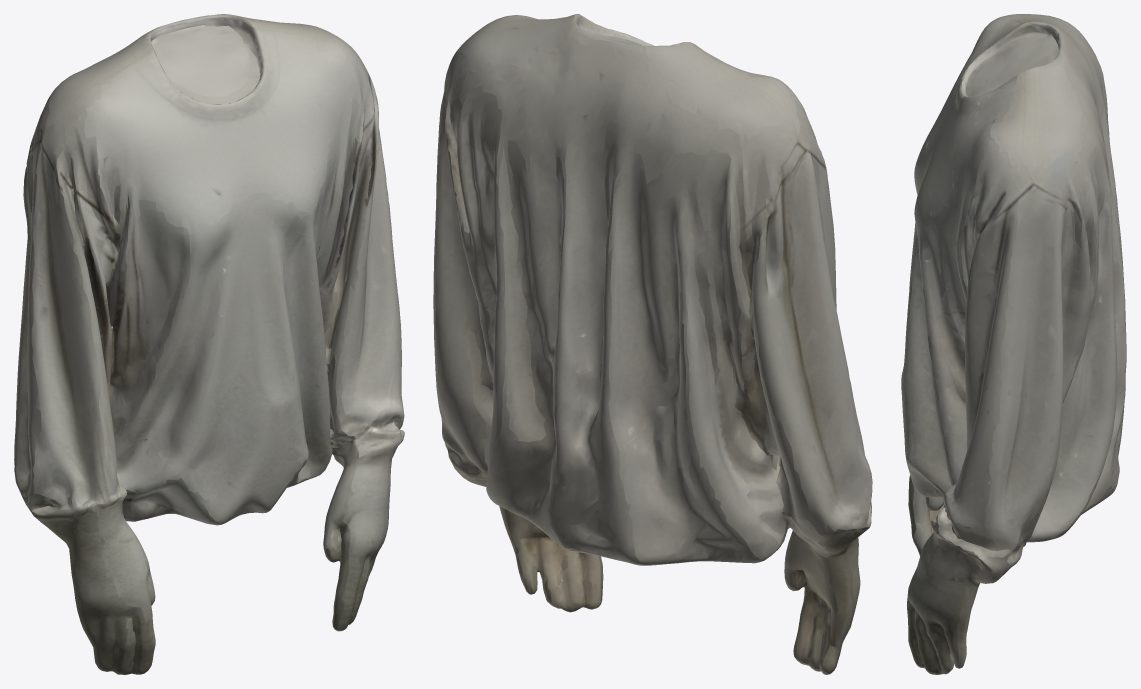
3 views of the same model, side by side, from view 1: azimuth 30°, elevation 25°; view 2: azimuth 150°, elevation 25°; view 3: azimuth 270°, elevation 25° (orthographic). The views are drawn at different scales.
Visible parts, largest first — view 1: world; view 2: world; view 3: world.
Boxes of the visible parts, box(x1,y1,x2,y2) form: world: box(14, 14, 404, 674); world: box(433, 14, 872, 674); world: box(901, 14, 1126, 674).
Bounding box in the file's own units: 134 × 199 × 70.15.
Materials: 1 (1 with a texture image).
